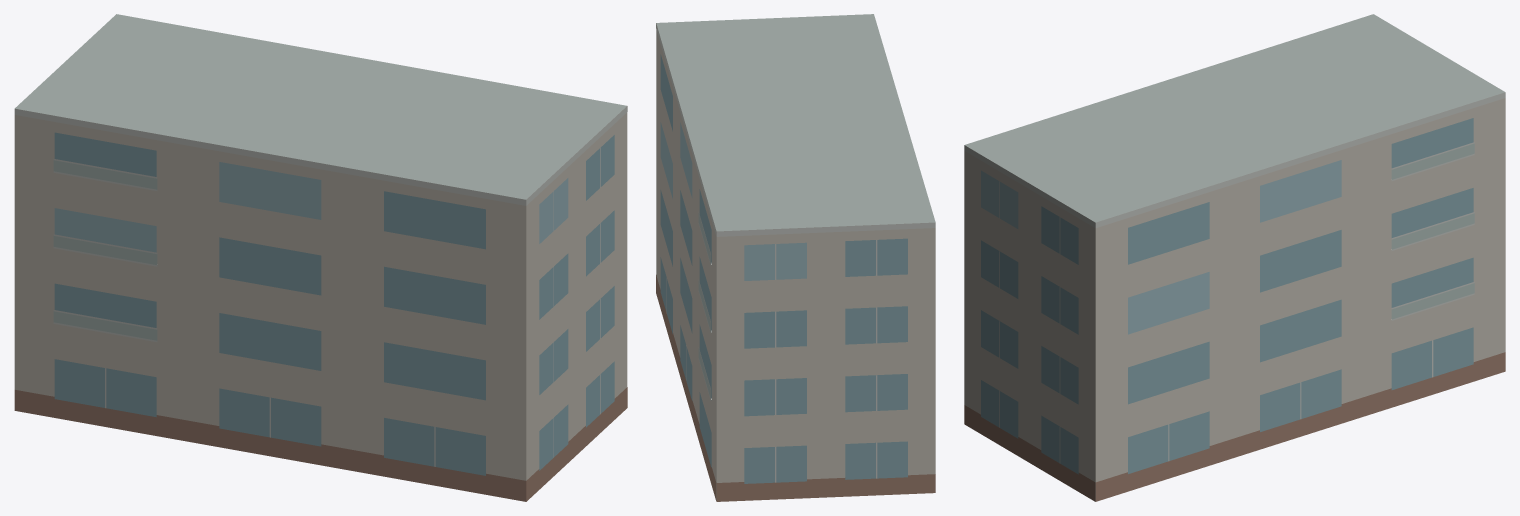
Rendered from survey-upis-32801483.glb.
The picture shows the model from 3 angles, left to right: view 1: azimuth 30°, elevation 25°; view 2: azimuth 150°, elevation 25°; view 3: azimuth 270°, elevation 25°; orthographic projection. The views are drawn at different scales.
Parts seen in each view (by area): view 1: survey-upis-32801483.tmp; view 2: survey-upis-32801483.tmp; view 3: survey-upis-32801483.tmp.
Boxes of the visible parts, bbox=[...] form: survey-upis-32801483.tmp: bbox=[14, 14, 627, 501]; survey-upis-32801483.tmp: bbox=[656, 14, 935, 501]; survey-upis-32801483.tmp: bbox=[964, 14, 1505, 501].
Bounding box in the file's own units: 19.23 × 12 × 21.09.
